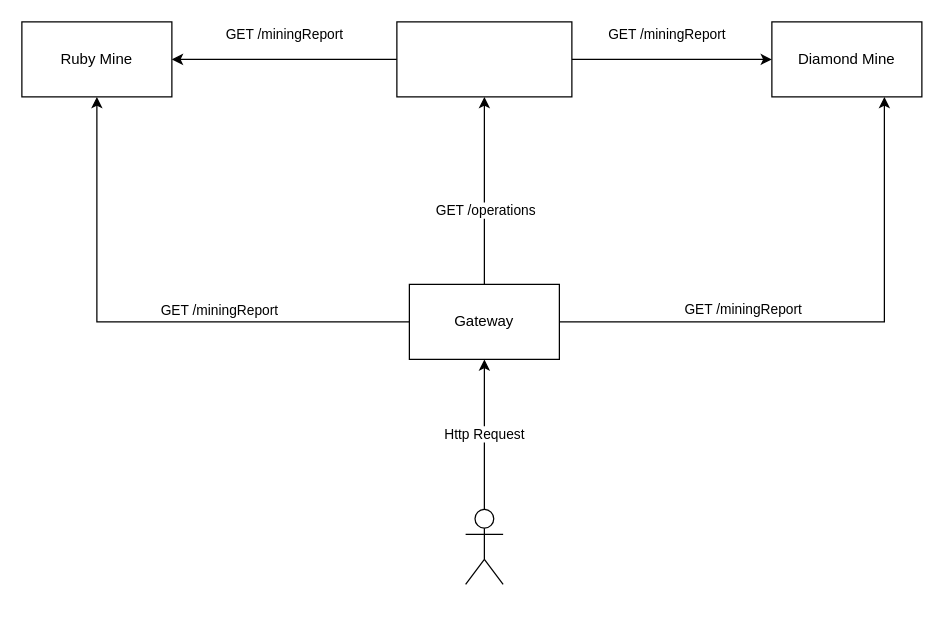
The diagram is 944 pixels wide and 633 high, and some of its shapes have lost their labels. The centre of each missing label's shape, as x and y in pixels:
"Actor" belongs at [483,546].
"Operations" belongs at [484,59].
